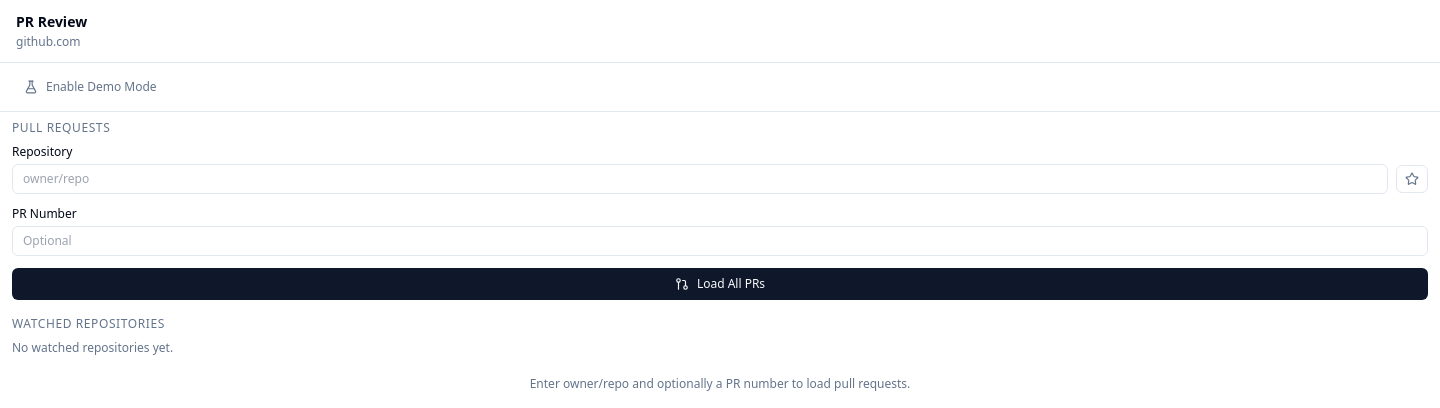
Test: Sidebar repository list flow › loads all pull requests when PR number is empty
The image size is (1440, 408).
Step 1. Type "org/repo" into the field labelled "Repository" → (700, 179), box [12,164,1388,194]
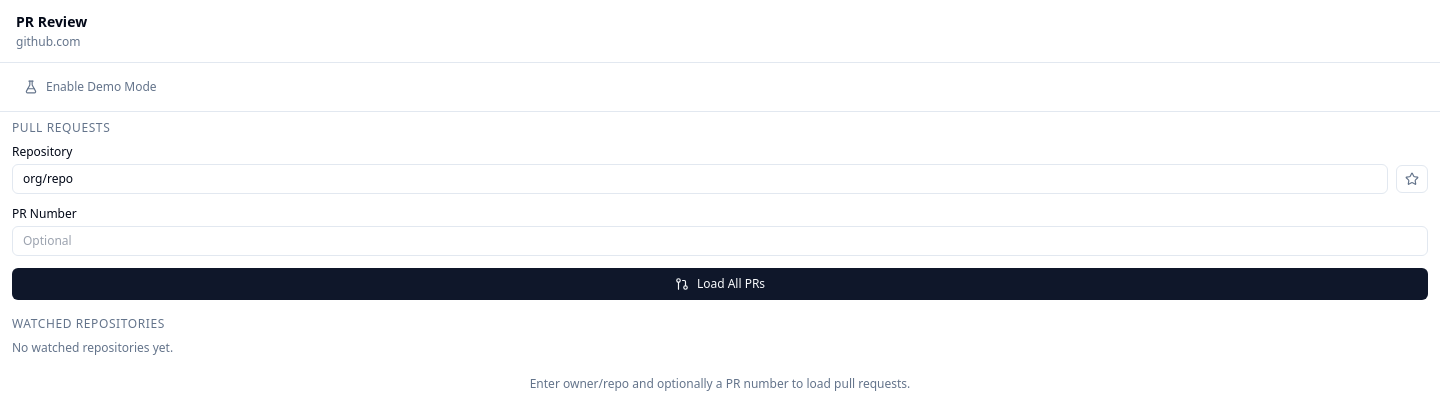
Step 2. Click the button "Load All PRs" → click(720, 284), box [12,268,1428,300]
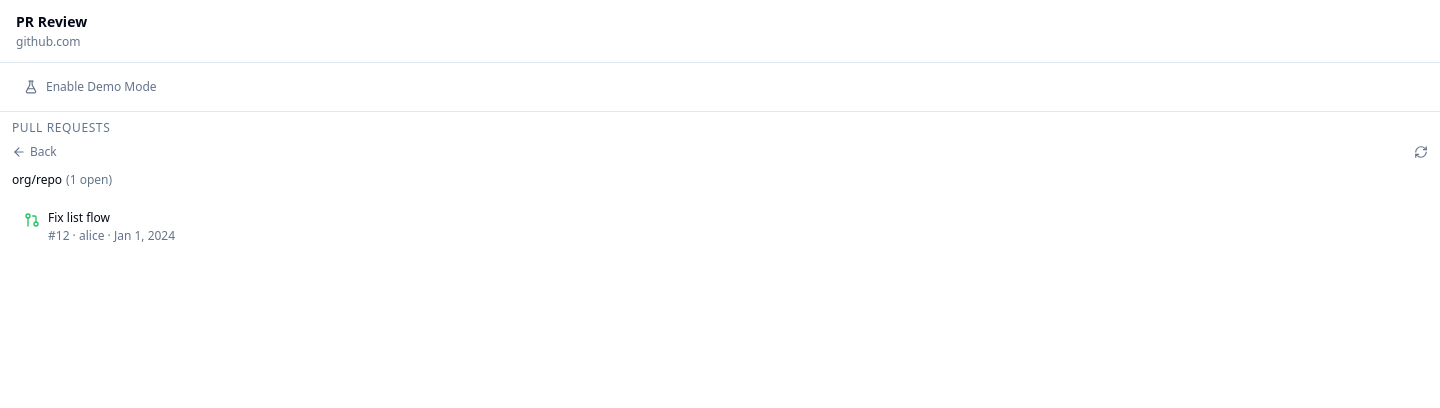
Check: the text "Back" is shown, box [30,144,57,160]
Check: the text "Fix list flow" is shown, box [48,209,110,226]
